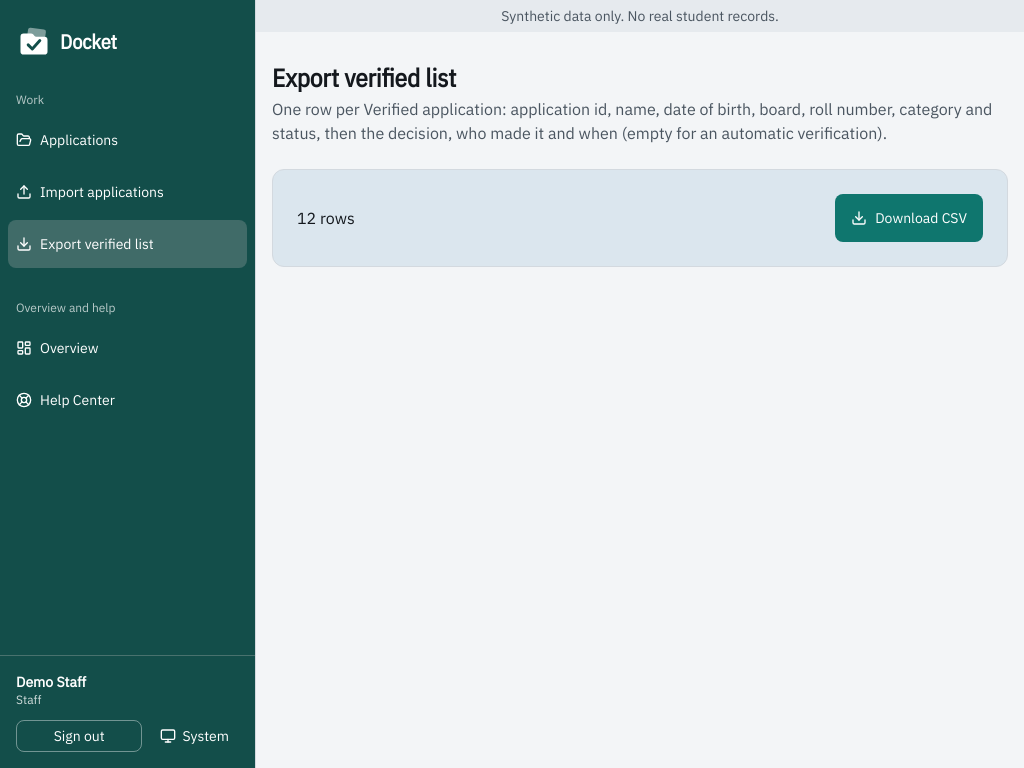
Test: the export › saves the file under the name the server gave it and says how many rows it holds
This screenshot has width=1024, height=768.
Click the button "Download CSV" at coordinates (909, 218), box [835,194,983,242]
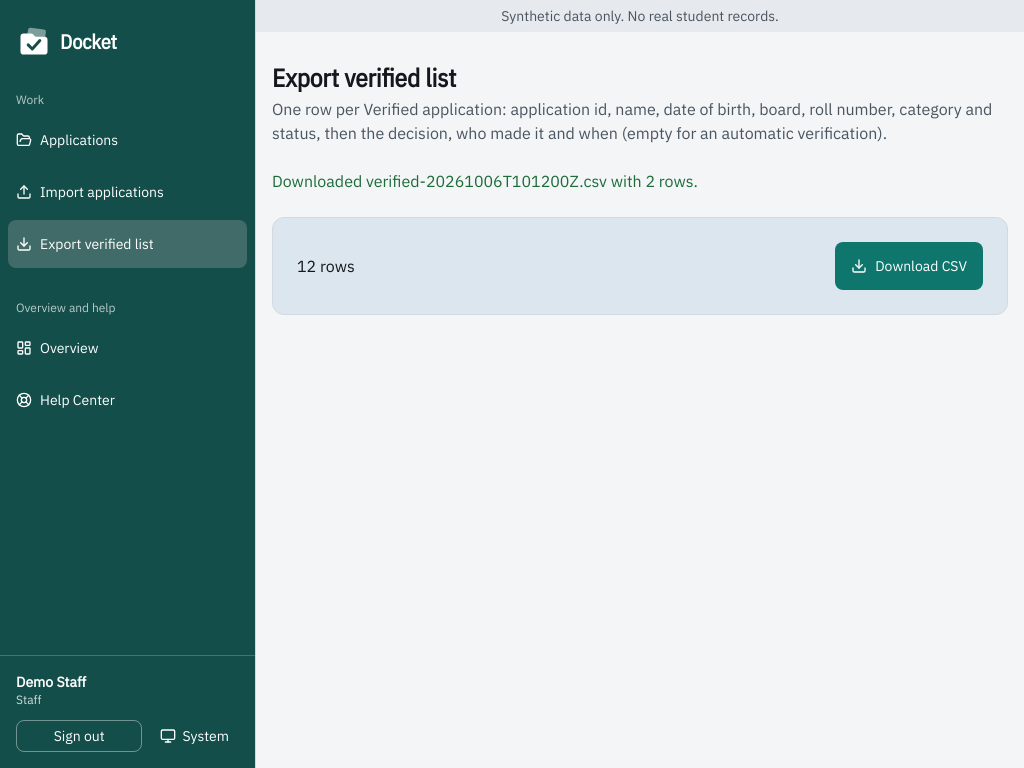
Now the text "Downloaded verified-20261006T101200Z.csv with 2 rows." is shown, box [272,171,698,191]
